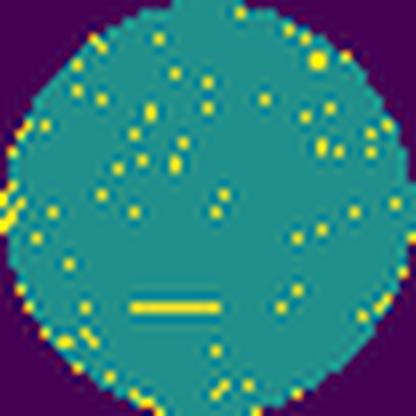Scratch: (121, 292, 230, 326)
